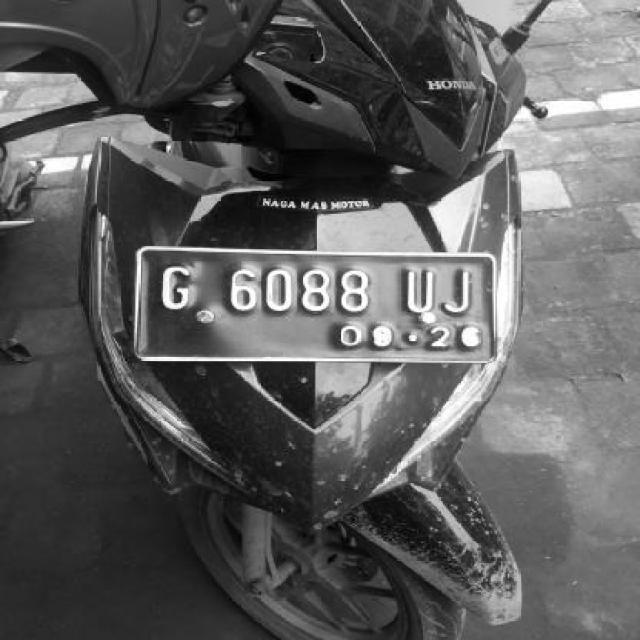0: (264, 260, 292, 323)
6: (227, 262, 258, 320)
8: (338, 266, 376, 318), (299, 264, 333, 322)
G: (154, 262, 198, 320)
J: (446, 266, 480, 324)
U: (402, 266, 442, 316)
